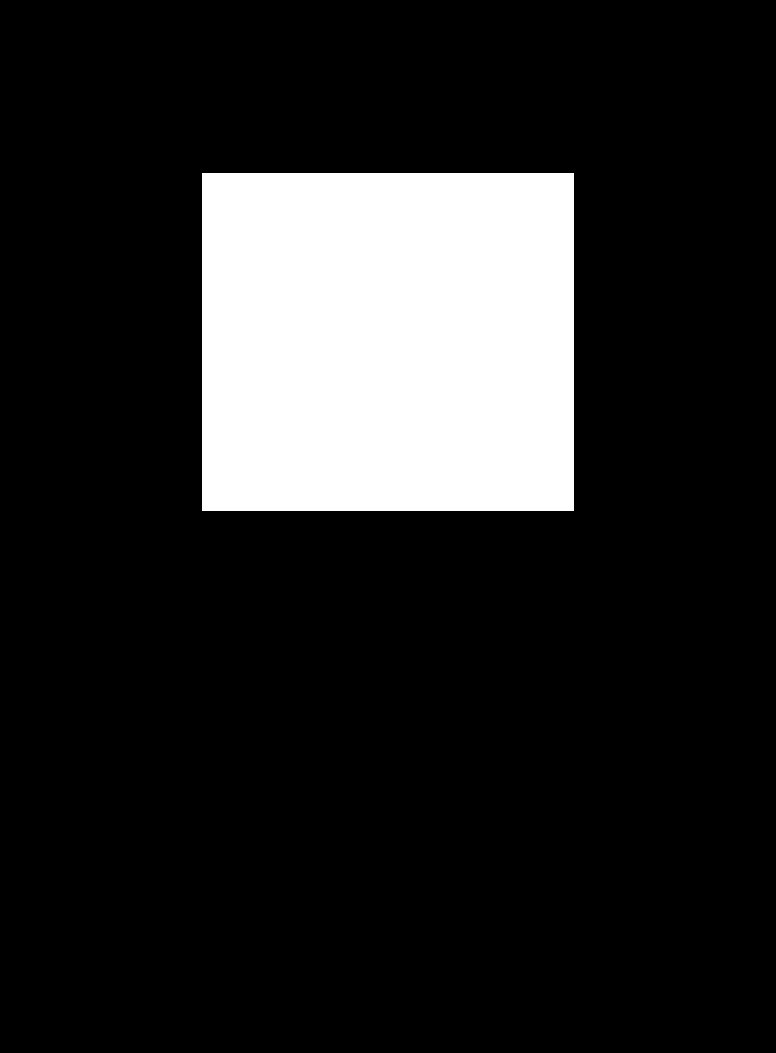table: (202, 173, 573, 510)
